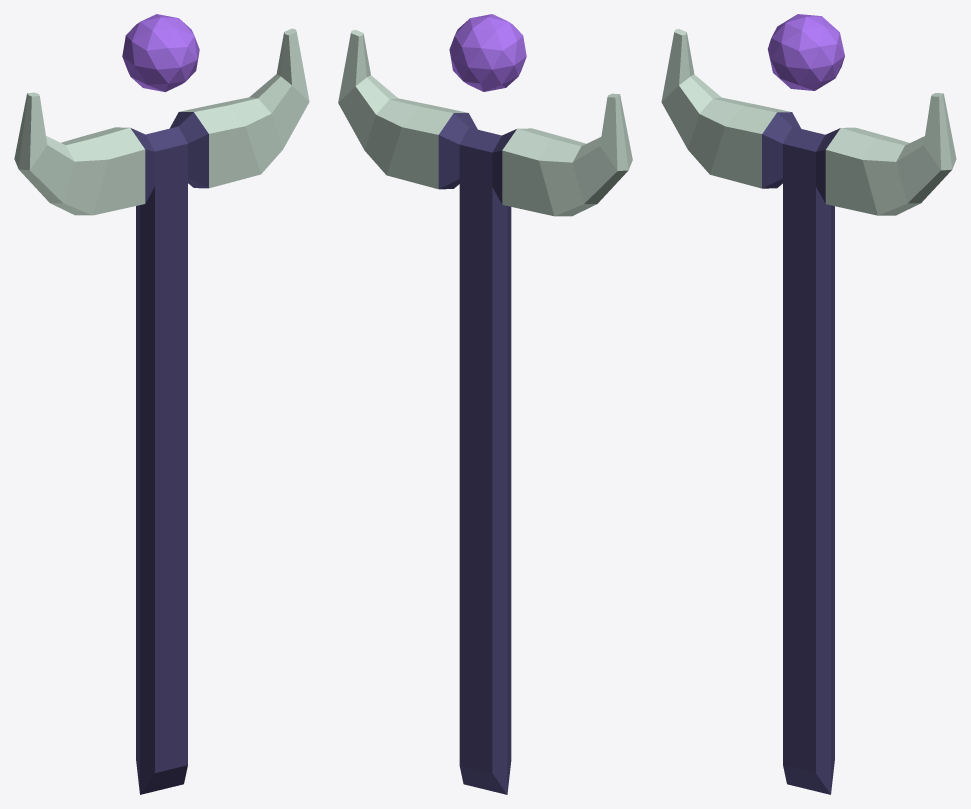
Rendered from Staff.obj.
The picture shows the model from 3 angles, left to right: view 1: azimuth 30°, elevation 25°; view 2: azimuth 150°, elevation 25°; view 3: azimuth 330°, elevation 25°; orthographic projection.
Visible parts, largest first — view 1: Staff_Cube.036; view 2: Staff_Cube.036; view 3: Staff_Cube.036.
Boxes of the visible parts, x1,y1,x2,y2 form: Staff_Cube.036: (14, 14, 309, 794); Staff_Cube.036: (338, 14, 632, 794); Staff_Cube.036: (661, 14, 956, 794).
Size of the model in its own units: 0.8362 by 2.16 by 0.2.
